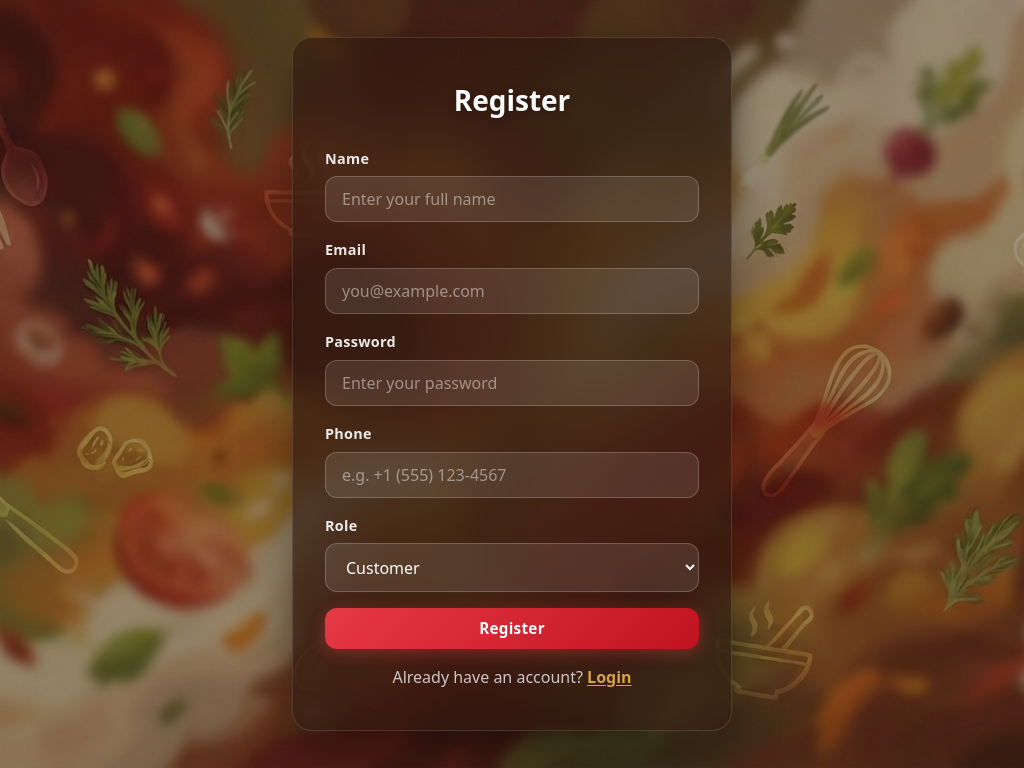
Test: Register › shows name validation error on blur with empty name
Click the field with placeholder "Enter your full name" at (512, 199), box [325,176,699,222]
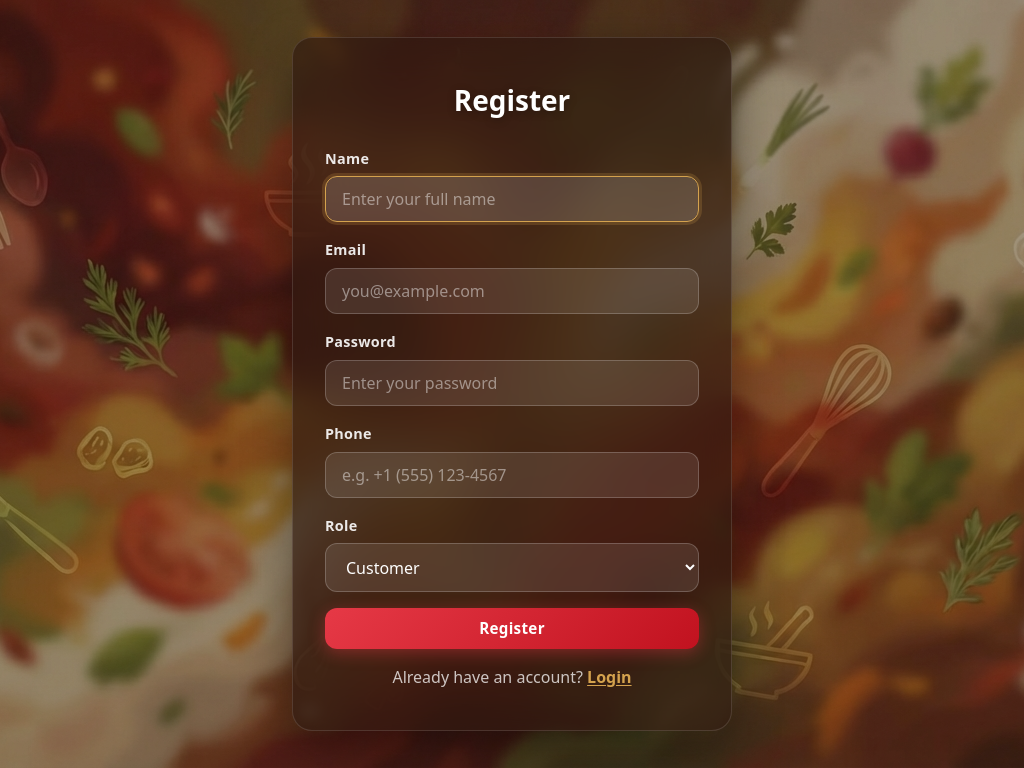
Press Tab
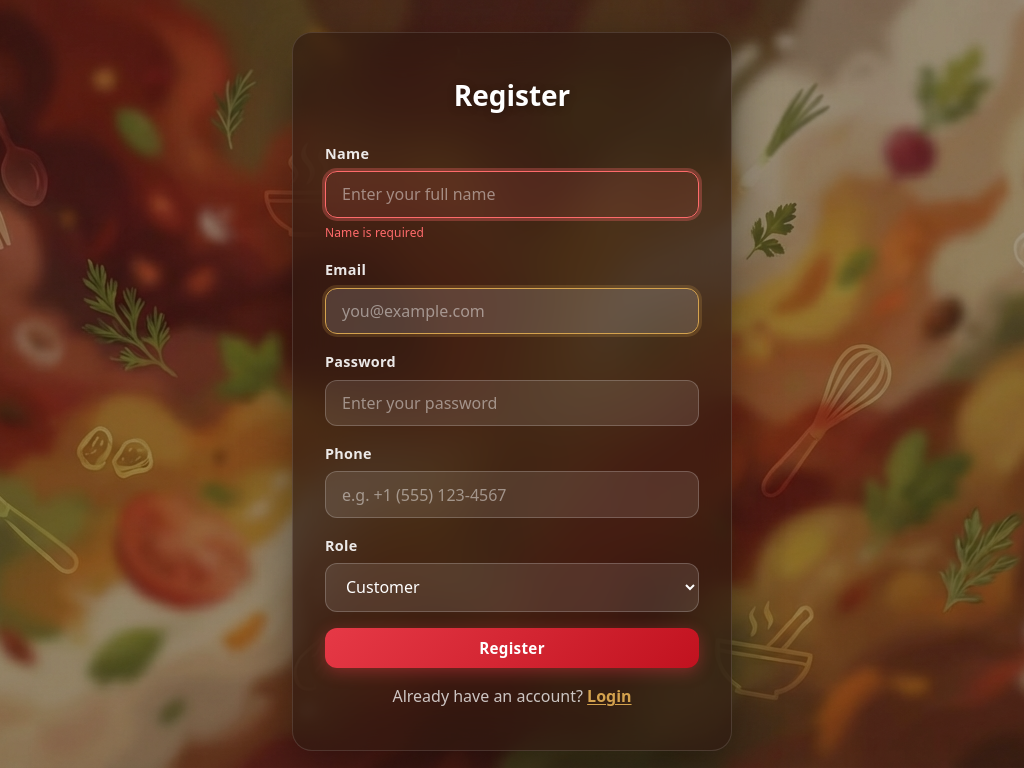
Now the text "Name is required" is shown, box [325,224,424,241]
